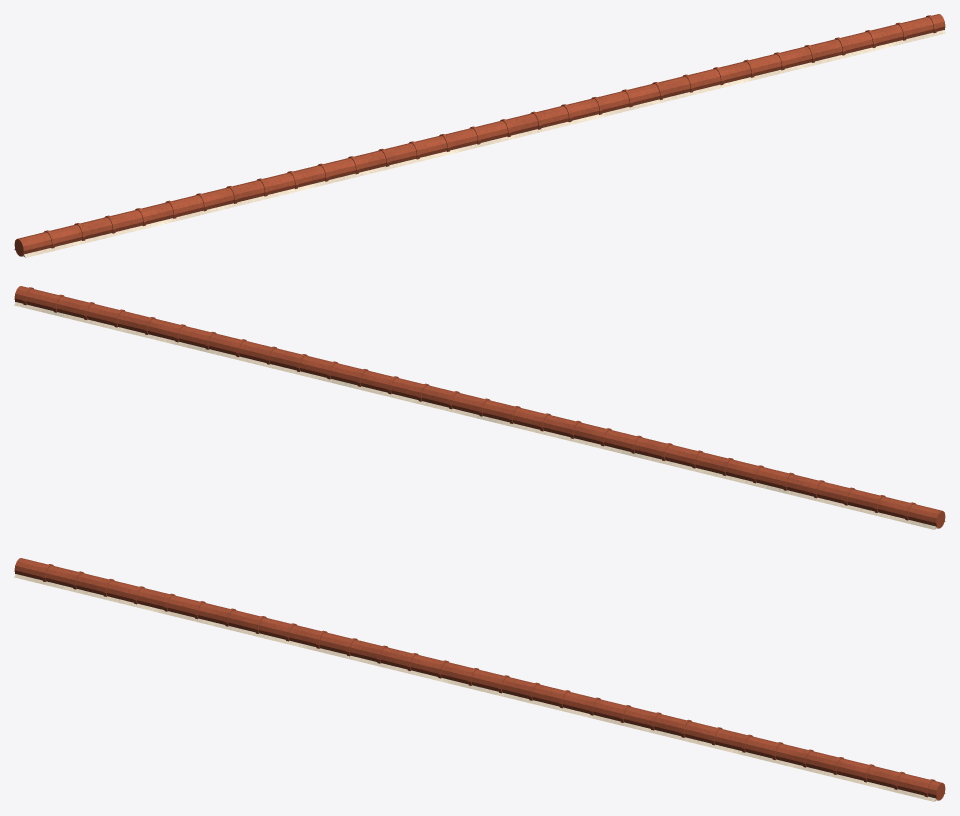
Rendered from m_ridge.glb.
3 views of the same model, one above another, from view 1: azimuth 30°, elevation 25°; view 2: azimuth 150°, elevation 25°; view 3: azimuth 330°, elevation 25° (orthographic).
Parts seen in each view (by area): view 1: m_ridge_tile_clay, m_ridge_render; view 2: m_ridge_tile_clay, m_ridge_render; view 3: m_ridge_tile_clay, m_ridge_render.
Boxes of the visible parts, bbox=[...] form: m_ridge_tile_clay: bbox=[14, 14, 945, 256]; m_ridge_render: bbox=[14, 30, 945, 257]; m_ridge_tile_clay: bbox=[14, 286, 945, 528]; m_ridge_render: bbox=[14, 302, 945, 529]; m_ridge_tile_clay: bbox=[14, 558, 945, 800]; m_ridge_render: bbox=[14, 574, 945, 801].
Size of the model in its own units: 12.73 by 0.244 by 0.28.
2 materials, 2 textured.
